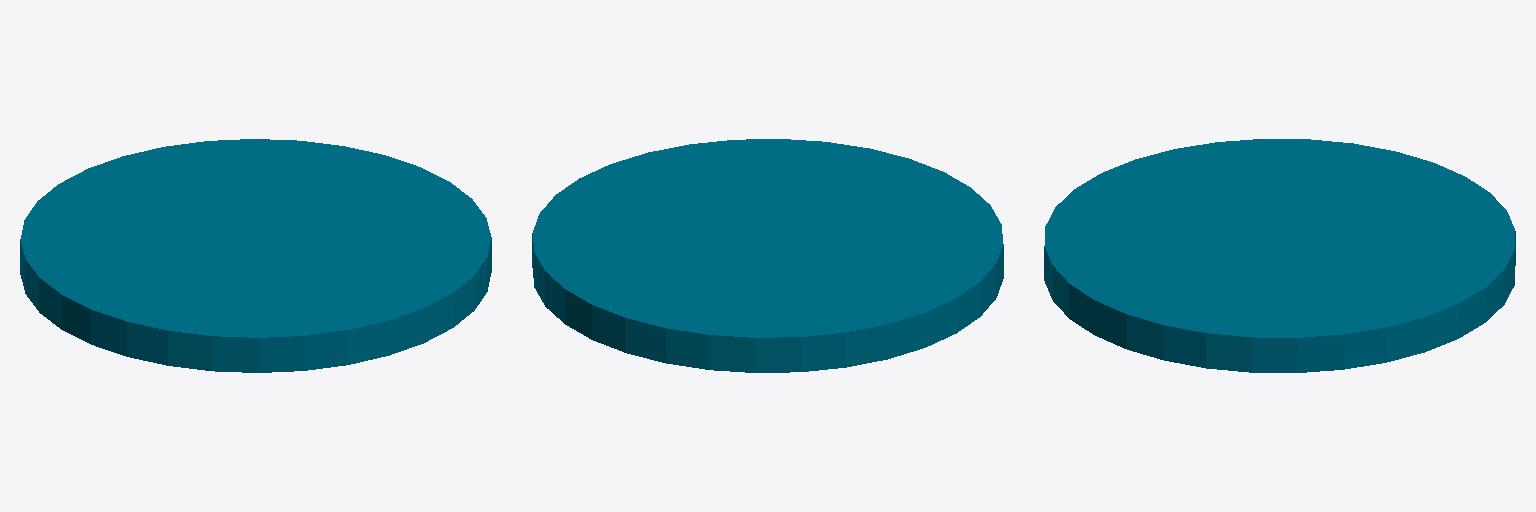
robot.urdf — Interference:
<?xml version="1.0"?>
<robot name="Interference">
  <link name="baseLink">
    <inertial>
      <origin xyz="0.0 0.0 0.0" rpy="0.0 0.0 0.0"/>
      <inertia ixx="0.0" ixy="0.0" ixz="0.0" iyy="0.0" iyz="0.0" izz="0.0"/>
      <mass value="0"/>
    </inertial>
    <visual>
      <origin xyz="0.0 0.0 0.0" rpy="0.0 0.0 -0.3165598013259454"/>
      <geometry>
        <cylinder radius="0.060695156034989234" length="0.01"/>
      </geometry>
      <material name="color">
        <color rgba="0.004511385059060347 0.48485181362871776 0.5894239235955493 1.0"/>
      </material>
    </visual>
  </link>
</robot>

--- What the picture shows (computed from the rendered views, not written in the file) ---
Views: 3 orthographic renders of the robot side by side, from view 1: azimuth 30°, elevation 25°; view 2: azimuth 150°, elevation 25°; view 3: azimuth 270°, elevation 25°.
Model Interference with 1 links and 0 joints (none), rooted at baseLink, posed all joints at 0.
Links seen in each view (by area): view 1: baseLink; view 2: baseLink; view 3: baseLink.
Link boxes in pixels (x1,y1,x2,y2): baseLink: [20, 139, 491, 372]; baseLink: [532, 139, 1003, 372]; baseLink: [1044, 139, 1515, 372].
Bounding box of the posed robot: 0.121 × 0.121 × 0.01 m (x, y, z).
Geometry: primitives only (box / cylinder / sphere), no mesh files.